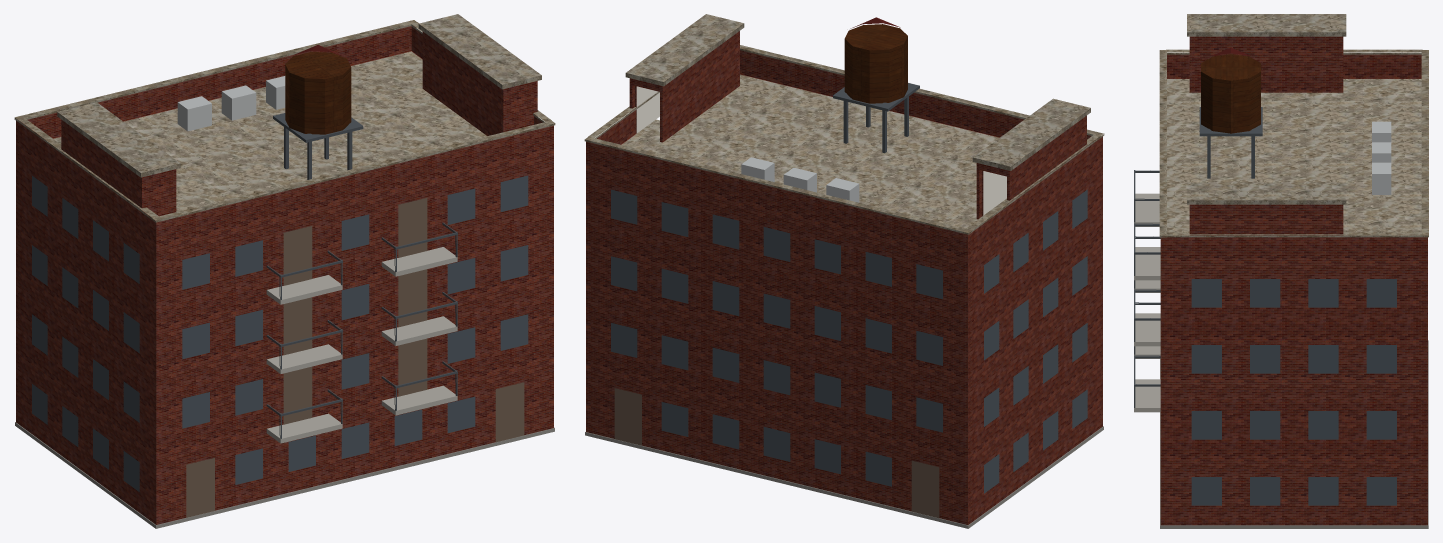
The model's file is mh-block-flats.zfix-v22.lod1.glb.
3 views of the same model, side by side, from view 1: azimuth 30°, elevation 25°; view 2: azimuth 150°, elevation 25°; view 3: azimuth 270°, elevation 25° (orthographic). The views are drawn at different scales.
Visible parts, largest first — view 1: mh-block-flats; view 2: mh-block-flats; view 3: mh-block-flats.
Boxes of the visible parts, x1=… form: mh-block-flats: x1=14, y1=14, x2=555, y2=528; mh-block-flats: x1=584, y1=14, x2=1104, y2=528; mh-block-flats: x1=1134, y1=14, x2=1428, y2=528.
Size of the model in its own units: 18.14 by 17.65 by 12.17.
4 materials, 3 textured.
